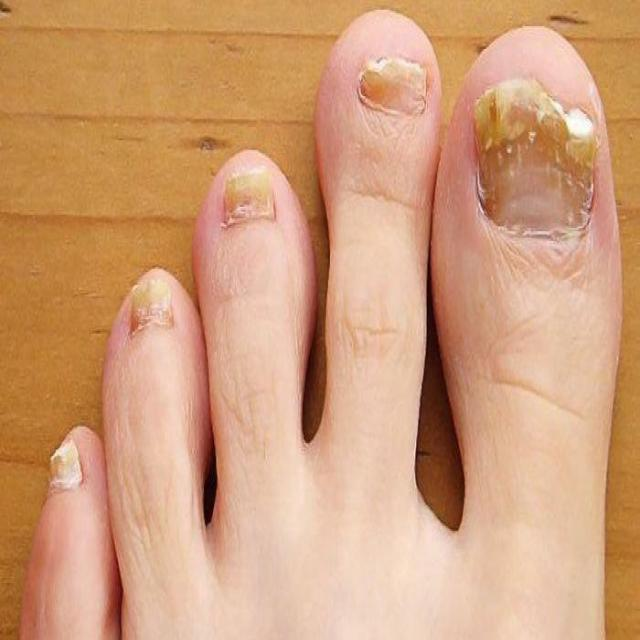diabetes: (472, 74, 594, 233), (358, 55, 427, 119), (222, 167, 275, 226), (127, 281, 174, 334), (48, 442, 83, 497)
